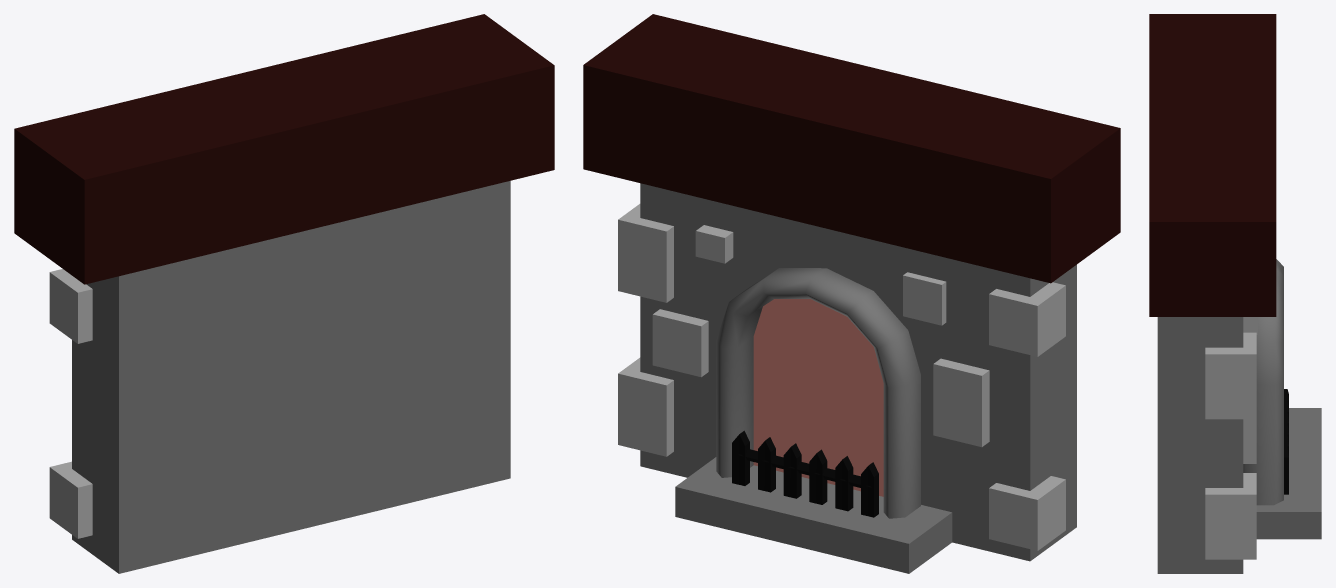
File: Fire palce no top.fbx
3 renders of one model, left to right at view 1: azimuth 30°, elevation 25°; view 2: azimuth 150°, elevation 25°; view 3: azimuth 270°, elevation 25°, orthographic. The views are drawn at different scales.
Parts seen in each view (by area): view 1: Fire place No top; view 2: Fire place No top; view 3: Fire place No top.
Part boxes in pixels (<box>): Fire place No top: <box>14,14,554,573</box>; Fire place No top: <box>583,14,1120,573</box>; Fire place No top: <box>1149,14,1321,573</box>.
Bounding box in the file's own units: 576 × 477 × 202.
